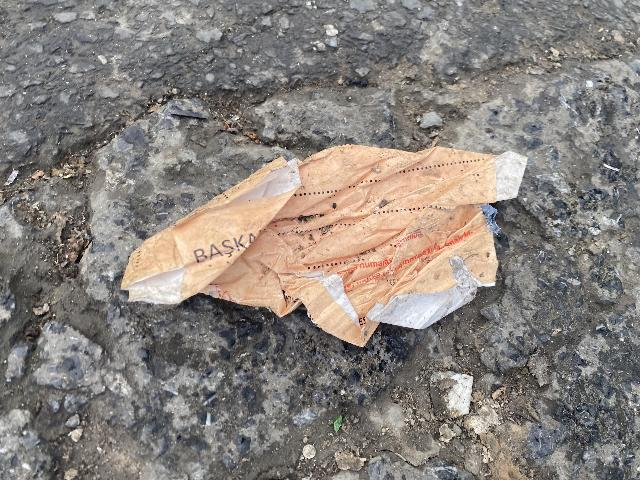Kagit: (120, 143, 528, 348)
